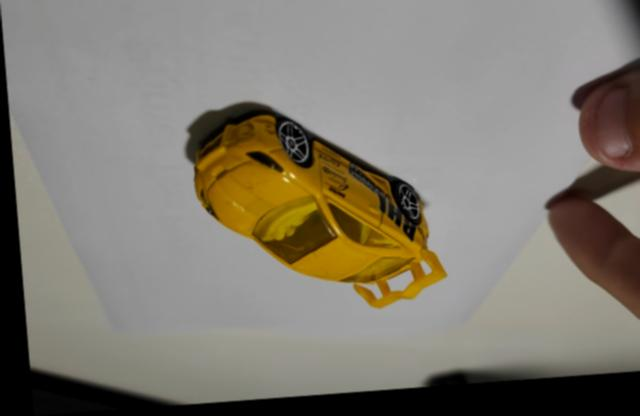07_RHLTURBO: (184, 106, 443, 314)
